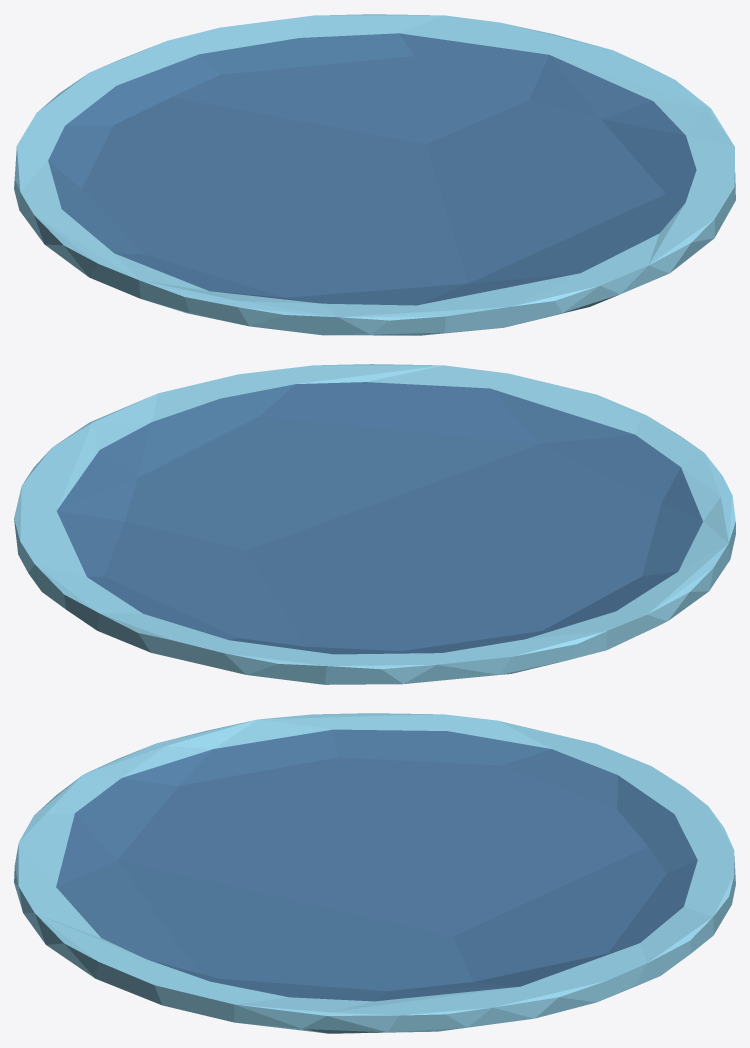
File: PlateBig03Blue.fbx
3 renders of one model, top to bottom at view 1: azimuth 30°, elevation 25°; view 2: azimuth 150°, elevation 25°; view 3: azimuth 270°, elevation 25°, orthographic.
Parts seen in each view (by area): view 1: PlateBig03LowPolyBlue; view 2: PlateBig03LowPolyBlue; view 3: PlateBig03LowPolyBlue.
Boxes of the visible parts, bbox=[...] form: PlateBig03LowPolyBlue: bbox=[14, 14, 735, 335]; PlateBig03LowPolyBlue: bbox=[14, 364, 735, 684]; PlateBig03LowPolyBlue: bbox=[14, 713, 735, 1033].
Bounding box in the file's own units: 28.95 × 2.45 × 28.92.
